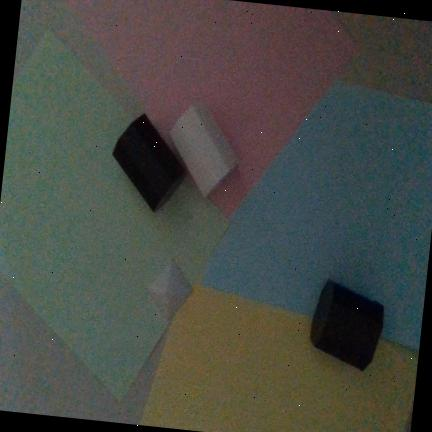Piramide: (144, 257, 194, 325)
Prisma_hexagonal: (112, 113, 186, 214), (310, 279, 384, 371), (168, 103, 239, 198)
